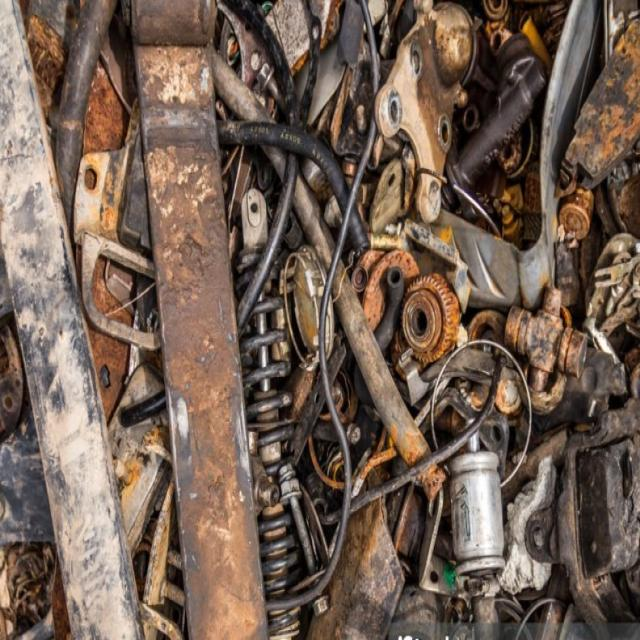Shock-Absorbers: (241, 293, 297, 634)
others: (445, 450, 508, 574)
